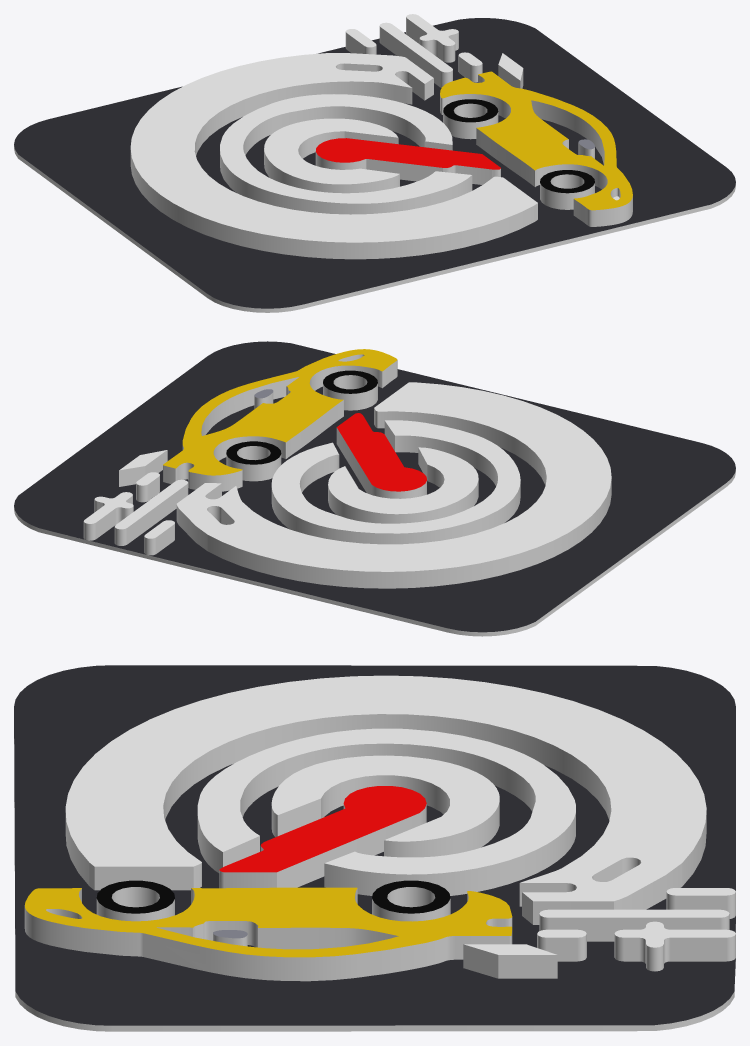
The model's file is Turbo_icon.glb.
3 renders of one model, top to bottom at view 1: azimuth 30°, elevation 25°; view 2: azimuth 150°, elevation 25°; view 3: azimuth 270°, elevation 25°, orthographic. The views are drawn at different scales.
Parts seen in each view (by area): view 1: Turbo; view 2: Turbo; view 3: Turbo.
Part boxes in pixels (box(x1,y1,x2,y2)): Turbo: box(14, 14, 735, 312); Turbo: box(14, 341, 735, 636); Turbo: box(14, 665, 735, 1031).
Bounding box in the file's own units: 13 × 0.5 × 11.
1 material, 1 textured.
